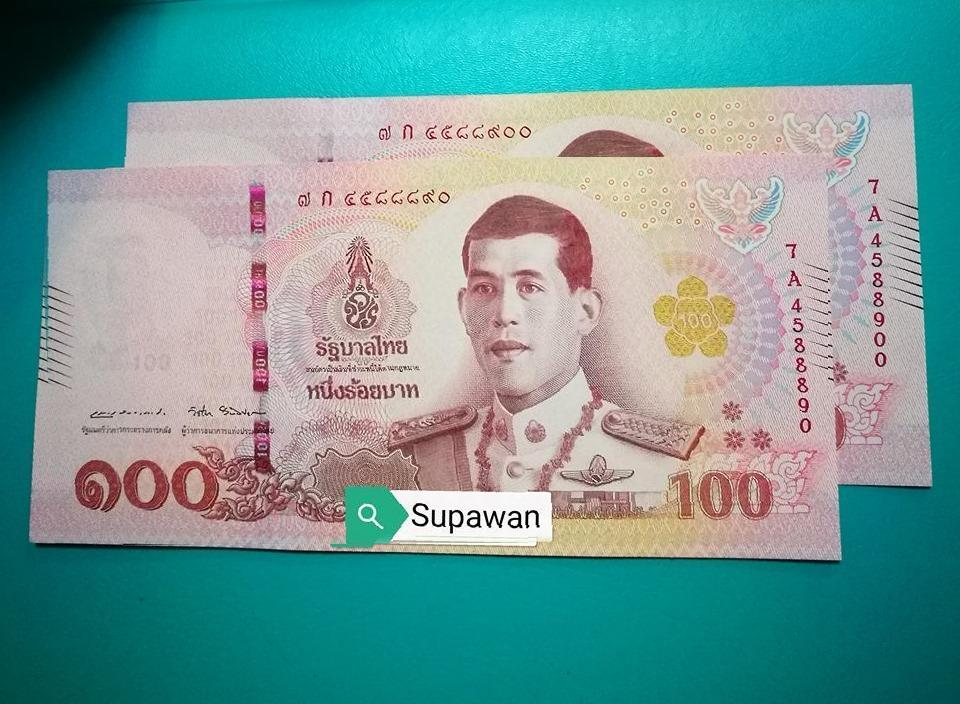100BahtTai: (39, 157, 829, 546)
